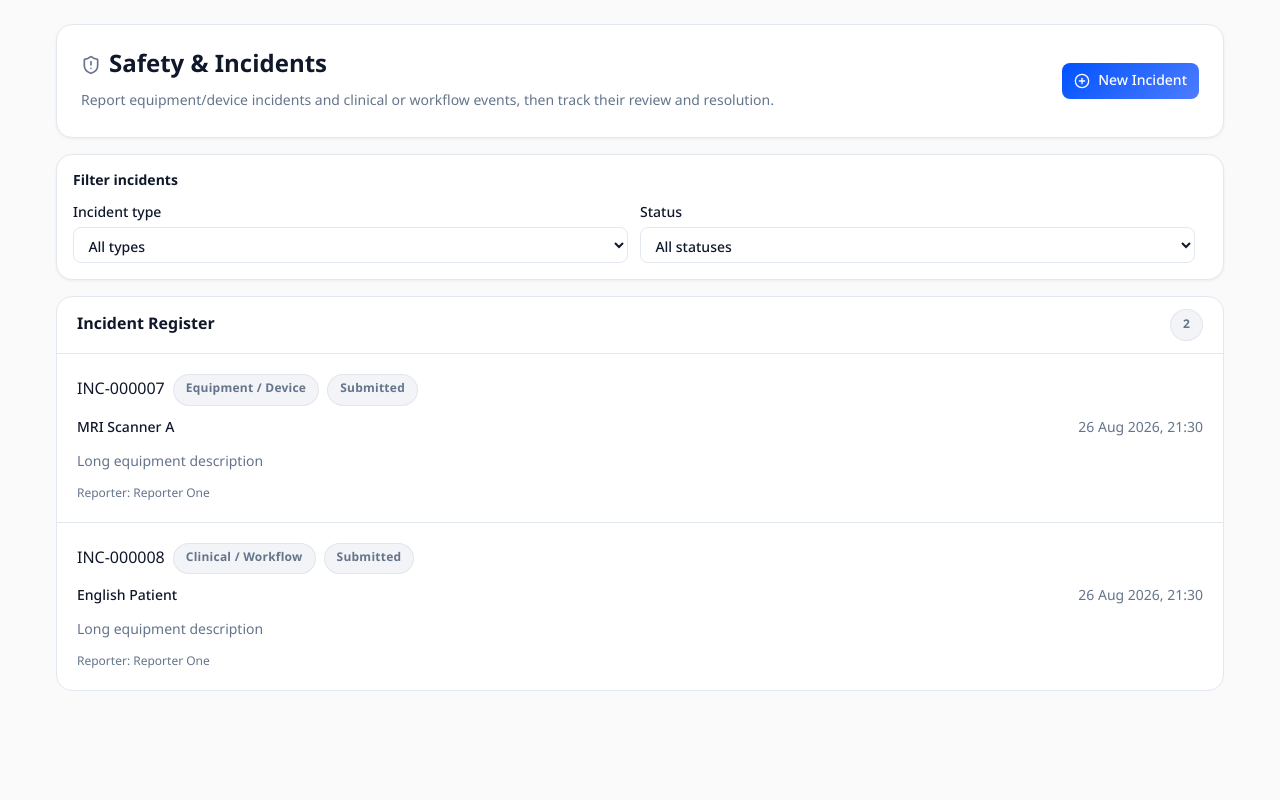
Test: IncidentsPage › switches type, searches after debounce, selects and clears a patient
This screenshot has width=1280, height=800.
Click the button "New Incident" at coordinates (1131, 81), box [1062,63,1199,99]
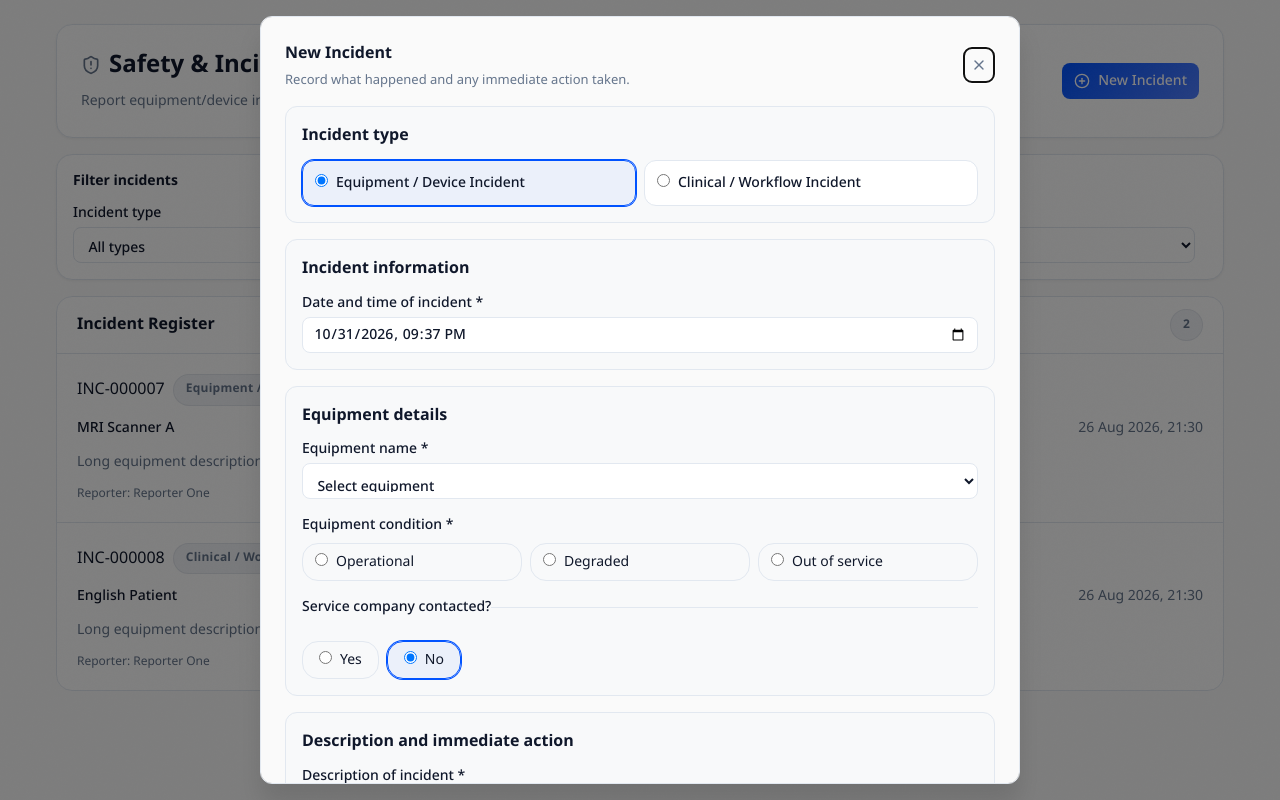
Click the radio button labelled "Clinical / Workflow Incident" at coordinates (664, 180), box [657,174,670,187]
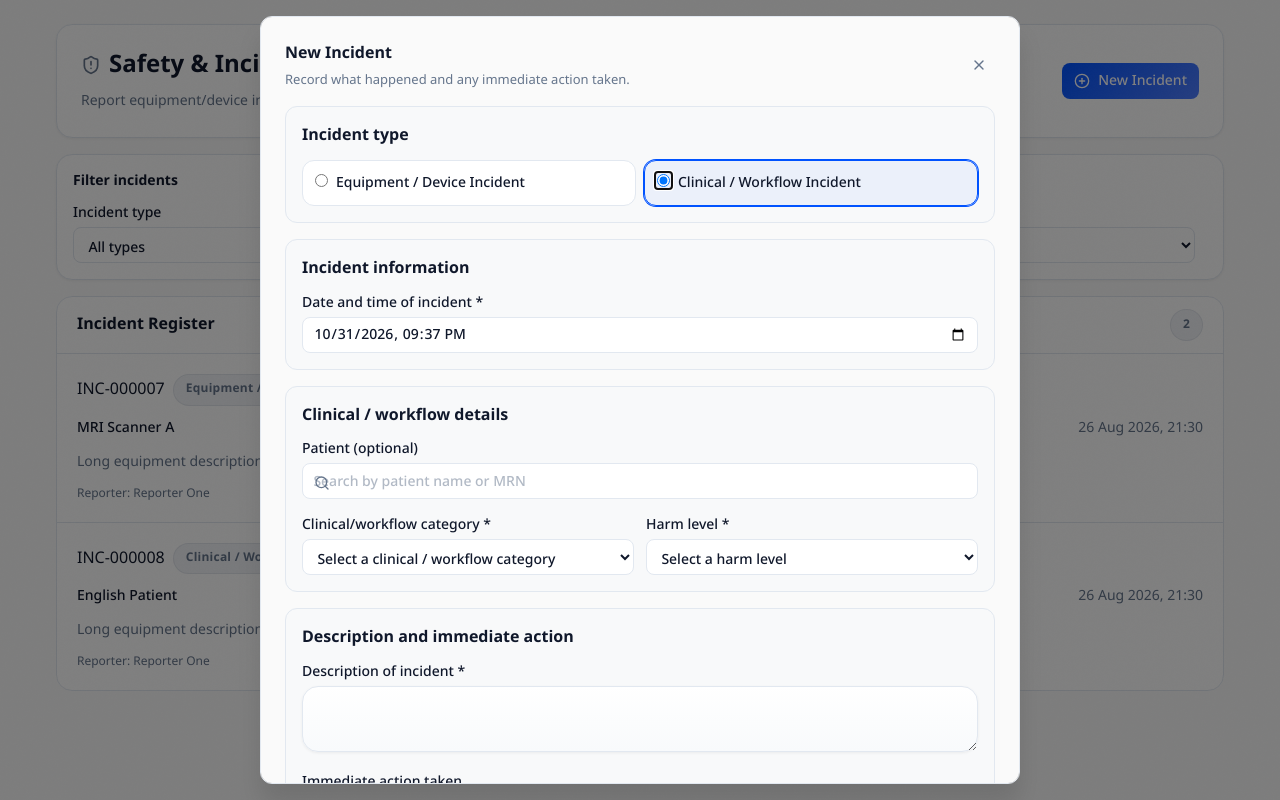
expect the dropdown labelled "Clinical/workflow category *" shows "Select a clinical / workflow category": met, box [302,539,634,575]
expect the dropdown labelled "Harm level *" shows "Select a harm level": met, box [646,539,978,575]
Type "En" into the field labelled "Patient (optional)" at coordinates (640, 481), box [302,463,978,499]
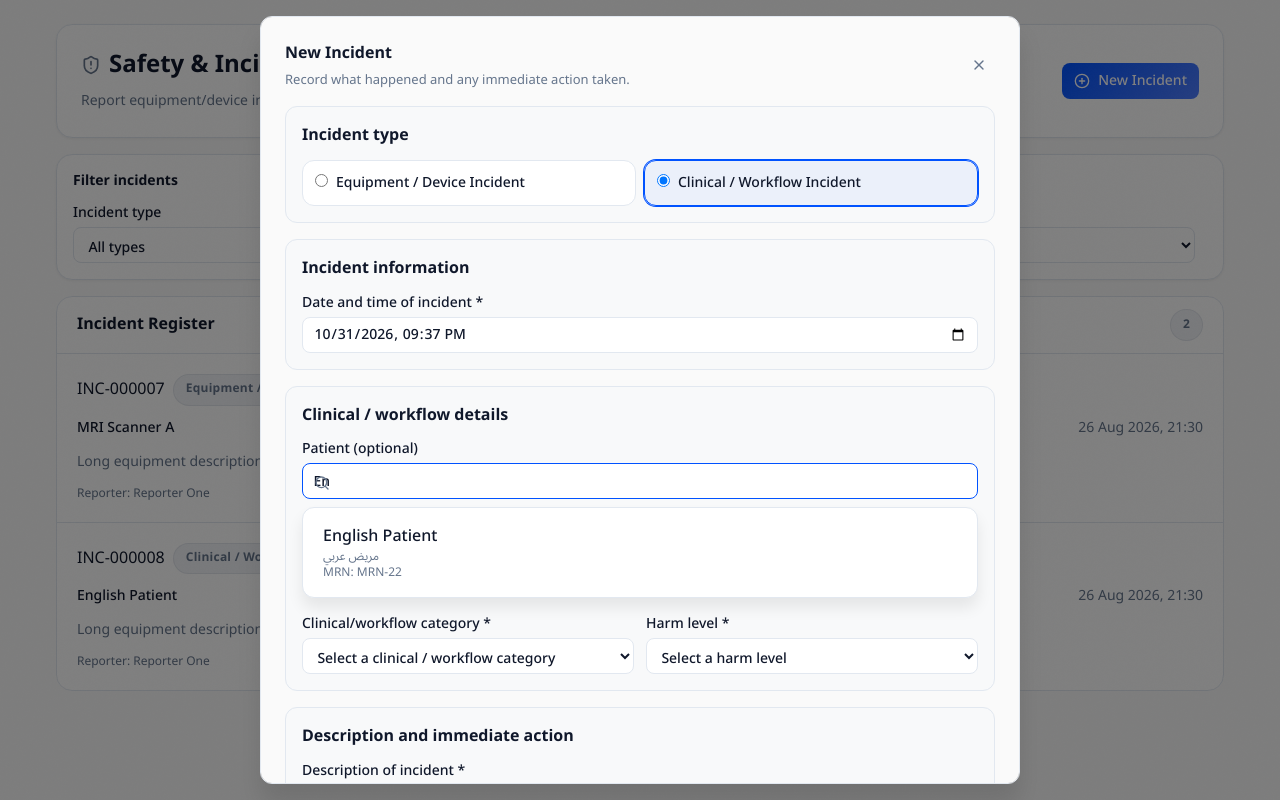
Click the option "English Patient مريض عربي MRN: MRN-22" at coordinates (380, 536), box [311,516,969,589]
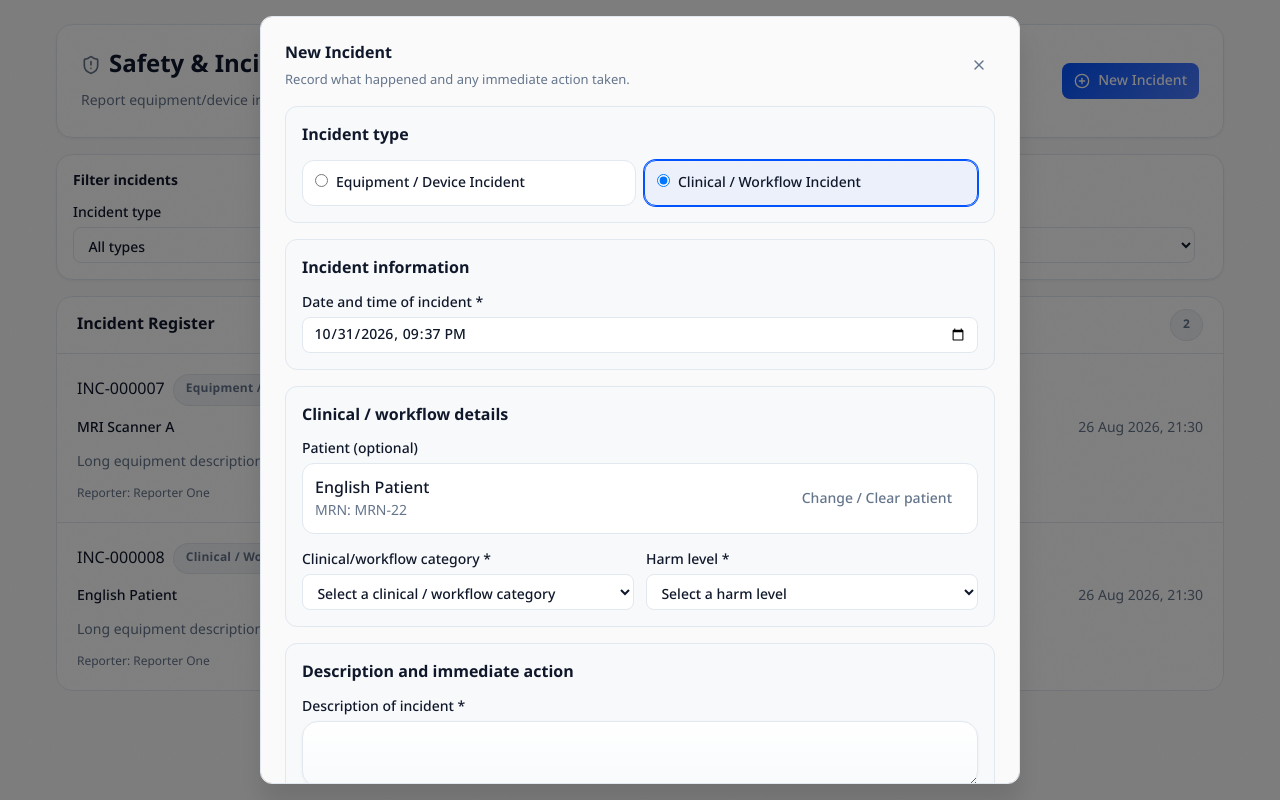
expect the element with test id "selected-patient-summary" shows "MRN-22": met, box [354,496,407,525]
Click the button "Change / Clear patient" at coordinates (877, 499), box [789,481,965,517]
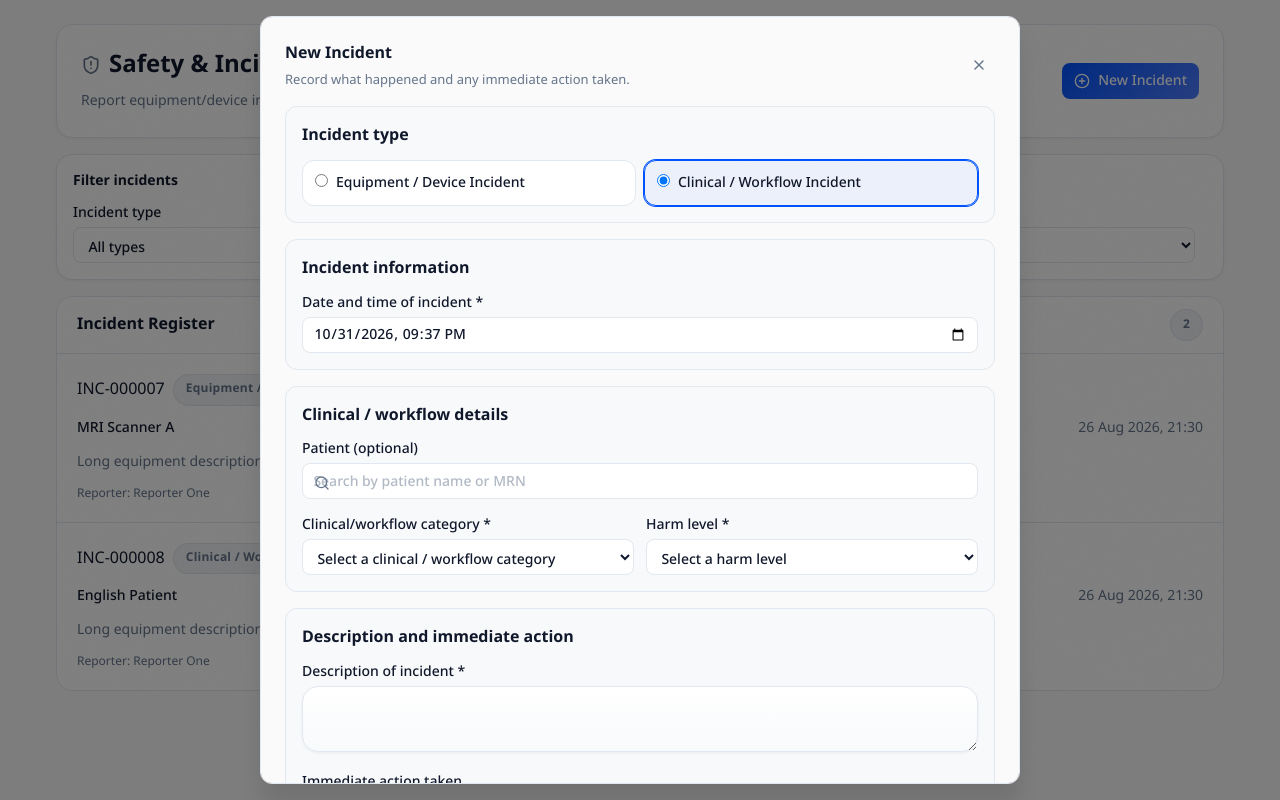
expect the field labelled "Patient (optional)" is shown: met, box [302,463,978,499]
